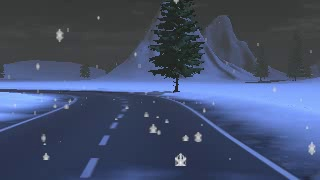Lane: (0, 89, 291, 179)
